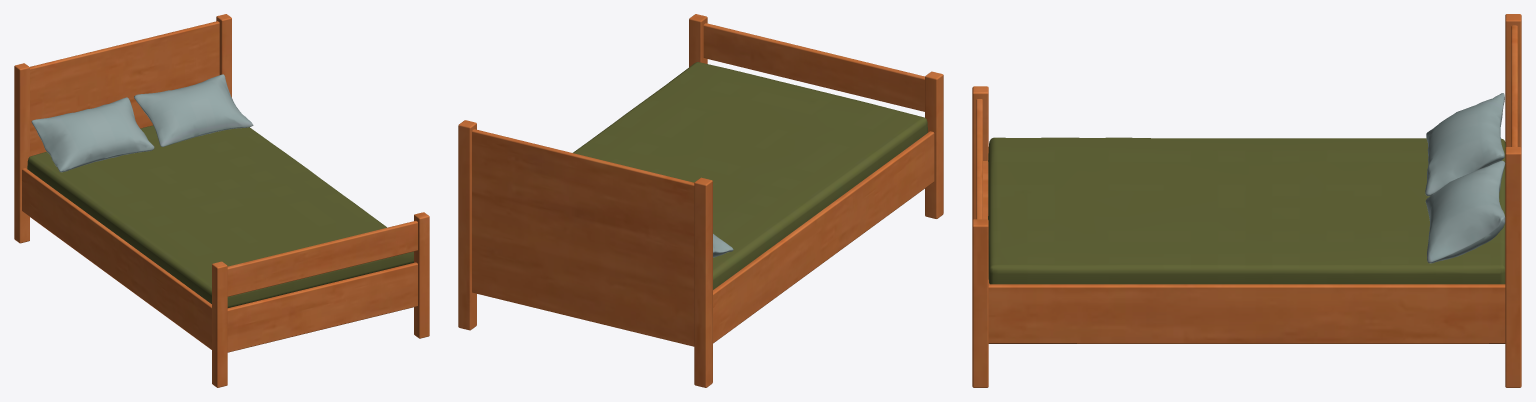
Rendered from wooden-bed.glb.
3 renders of one model, left to right at view 1: azimuth 30°, elevation 25°; view 2: azimuth 150°, elevation 25°; view 3: azimuth 270°, elevation 25°, orthographic. The views are drawn at different scales.
Visible parts, largest first — view 1: bed_2.1; view 2: bed_2.1; view 3: bed_2.1.
Part boxes in pixels (x1,y1,x2,y2): bed_2.1: [14, 14, 429, 387]; bed_2.1: [458, 14, 943, 387]; bed_2.1: [972, 14, 1521, 387].
Size of the model in its own units: 0.2697 by 0.2112 by 0.4466.
Materials: 1 (1 with a texture image).
